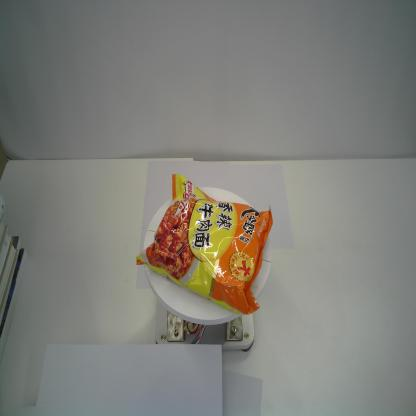Instant Noodles: (136, 173, 274, 315)
